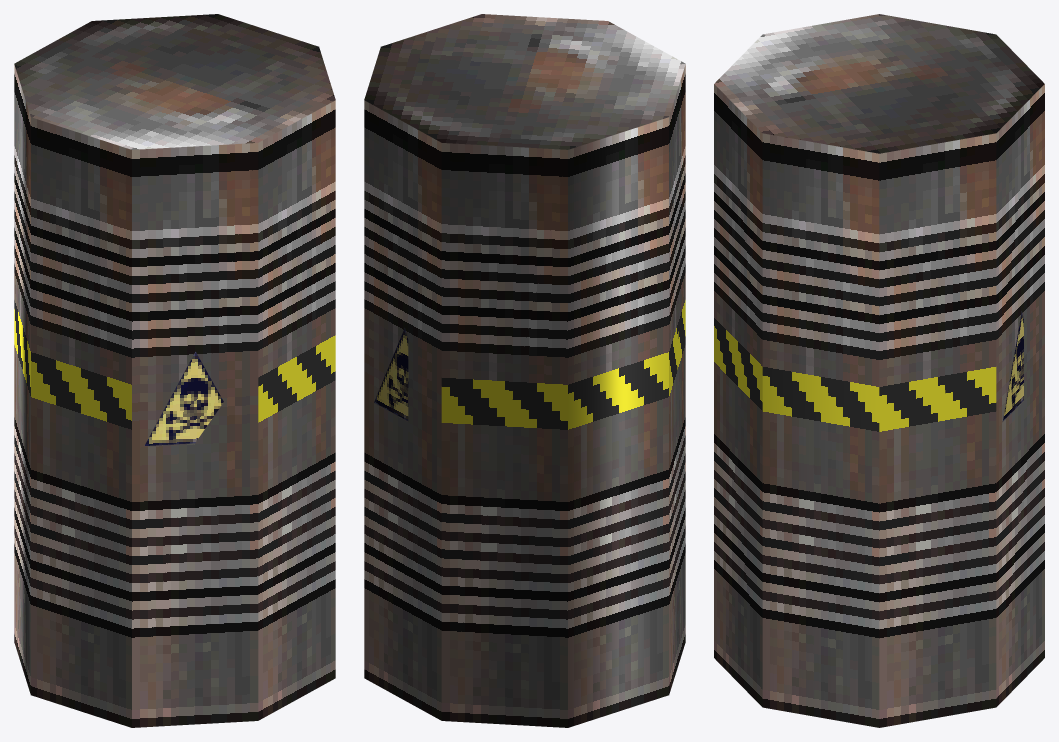
Rendered from Poil_drum3Z.obj.
The picture shows the model from 3 angles, left to right: view 1: azimuth 30°, elevation 25°; view 2: azimuth 150°, elevation 25°; view 3: azimuth 270°, elevation 25°; orthographic projection.
Bounding box in the file's own units: 690 × 1322 × 690.
Materials: 4 (4 with a texture image).
